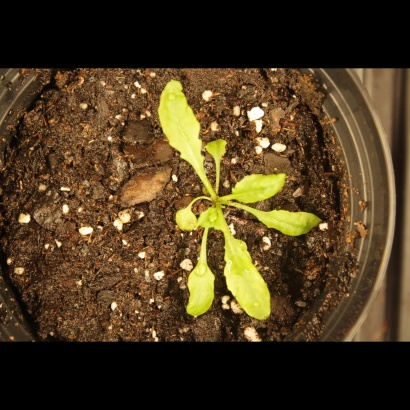leaf: (214, 226, 278, 329), (147, 71, 208, 172), (181, 252, 219, 325), (228, 164, 295, 205), (245, 207, 326, 240), (201, 130, 236, 170), (171, 203, 202, 236), (197, 204, 223, 232)
